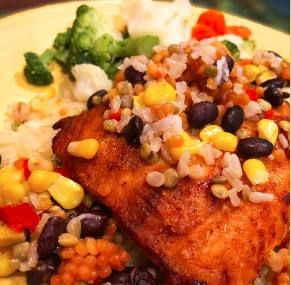curry: (24, 5, 159, 85)
